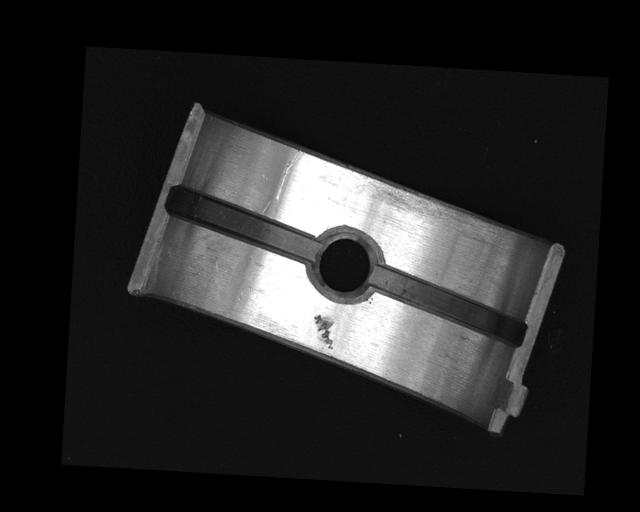bruise: (312, 313, 336, 351)
gap: (368, 263, 526, 348), (163, 186, 321, 261)
hole: (304, 228, 383, 302)
nick: (276, 148, 305, 201)
scratch: (313, 162, 512, 252)
